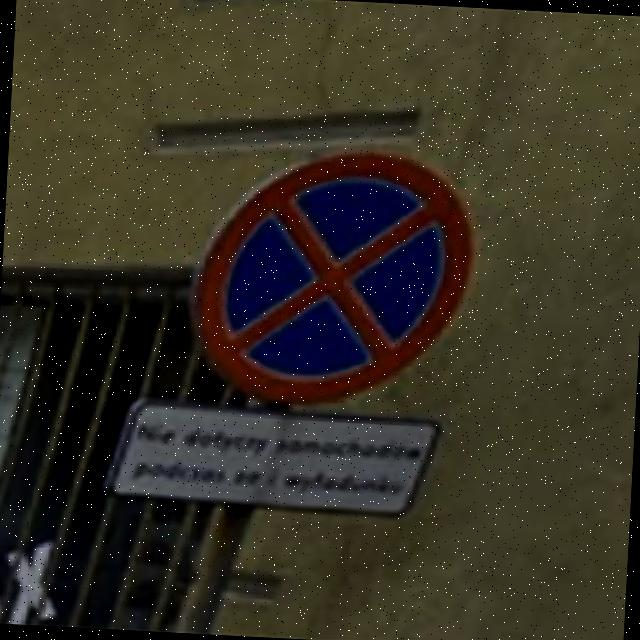Zakaz zatrzymywania sie: (182, 137, 480, 416)
